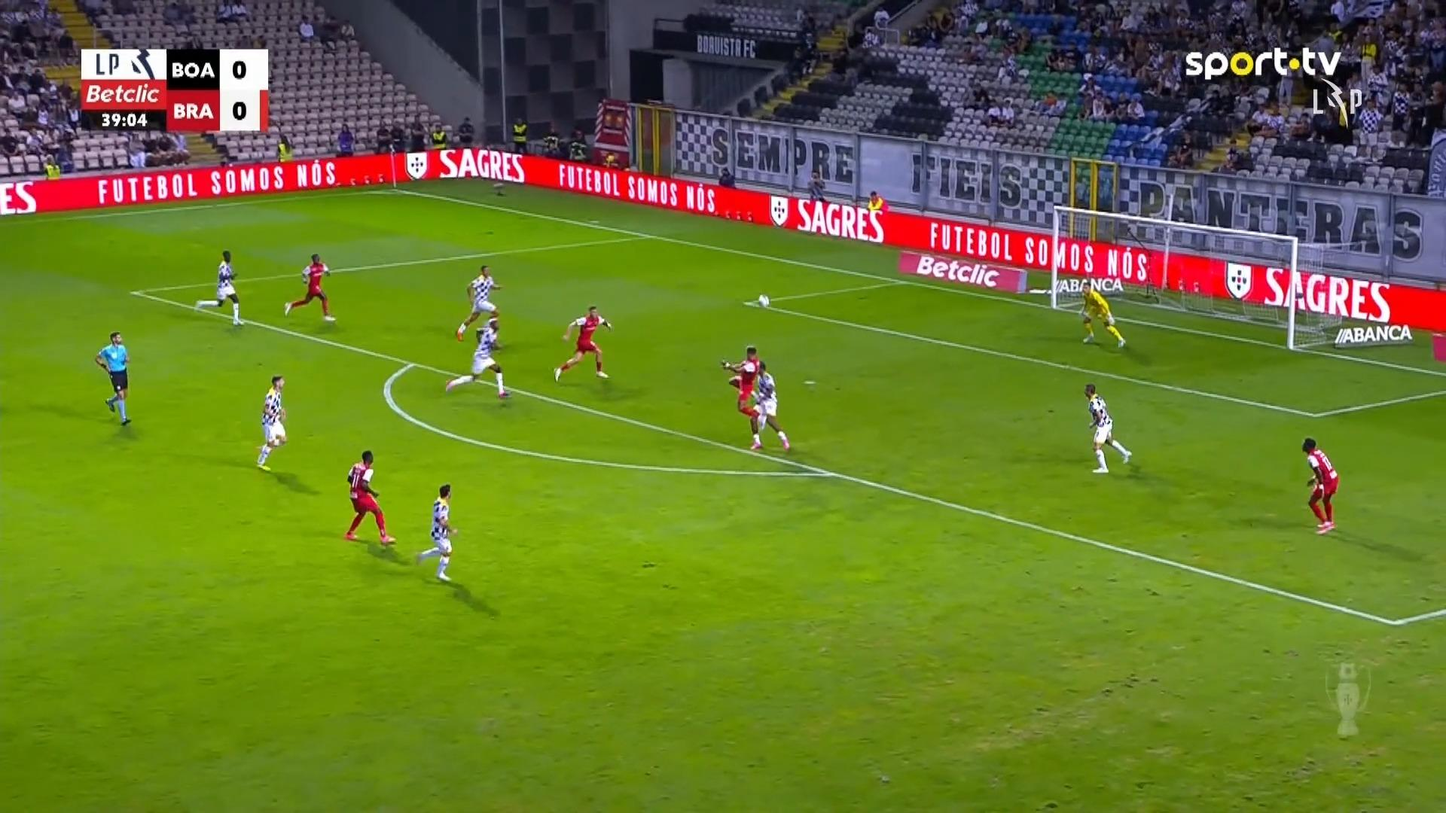ball: (758, 294, 768, 306)
goalkeeper: (1078, 280, 1126, 348)
player: (444, 316, 511, 398), (343, 449, 396, 545), (552, 305, 612, 382), (741, 361, 791, 451), (1083, 382, 1131, 473), (415, 483, 458, 581), (455, 264, 502, 345), (1301, 437, 1339, 534), (283, 252, 336, 321), (720, 344, 762, 426), (255, 374, 288, 471), (215, 249, 245, 326)
referee: (93, 331, 131, 426)
